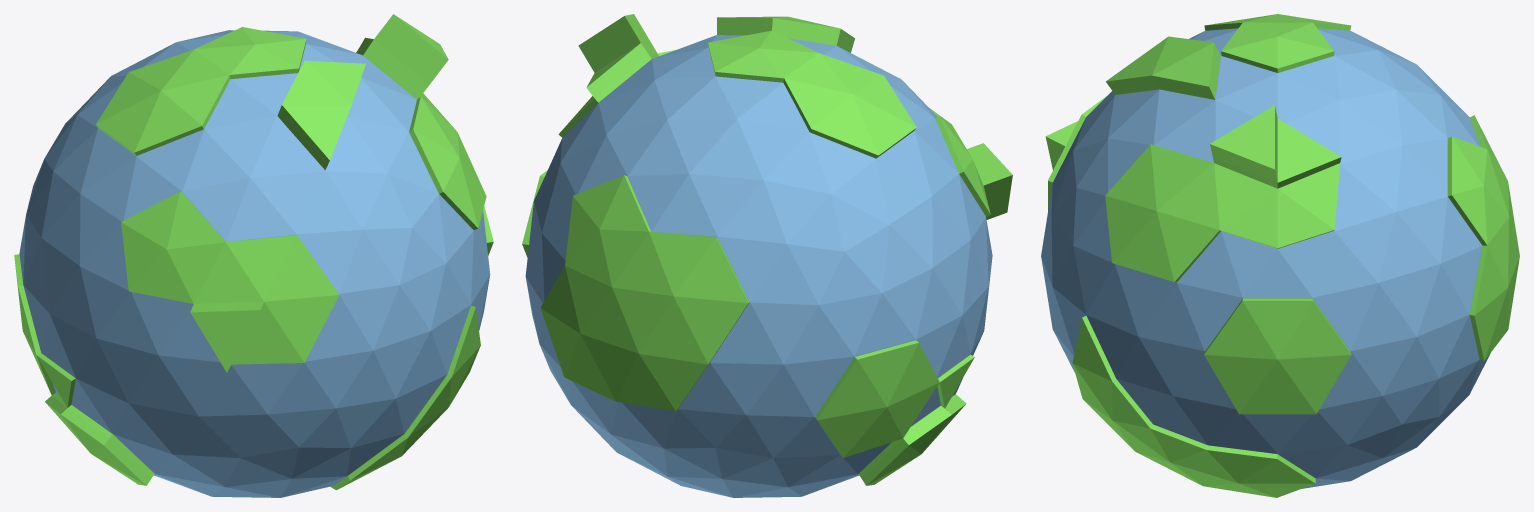
File: earth.glb
The picture shows the model from 3 angles, left to right: view 1: azimuth 30°, elevation 25°; view 2: azimuth 150°, elevation 25°; view 3: azimuth 270°, elevation 25°; orthographic projection.
Parts seen in each view (by area): view 1: Icosphere.001, Icosphere; view 2: Icosphere.001, Icosphere; view 3: Icosphere.001, Icosphere.
Boxes of the visible parts, x1,y1,x2,y2 form: Icosphere.001: (19, 30, 490, 497); Icosphere: (14, 14, 493, 490); Icosphere.001: (525, 35, 992, 497); Icosphere: (522, 14, 1012, 485); Icosphere.001: (1041, 28, 1490, 488); Icosphere: (1045, 14, 1519, 497).
Size of the model in its own units: 2.07 by 2.07 by 2.06.
